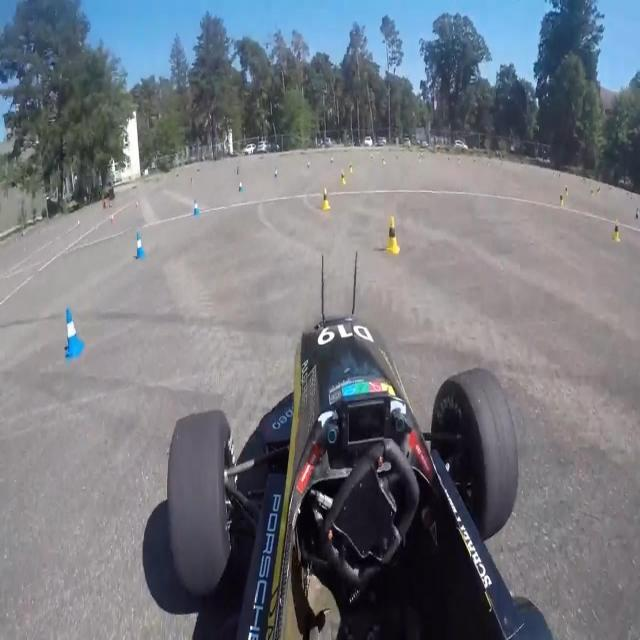blue_cone: (65, 307, 84, 362), (136, 232, 146, 260), (193, 198, 200, 216)
yellow_cone: (384, 216, 401, 254), (320, 187, 331, 210)
